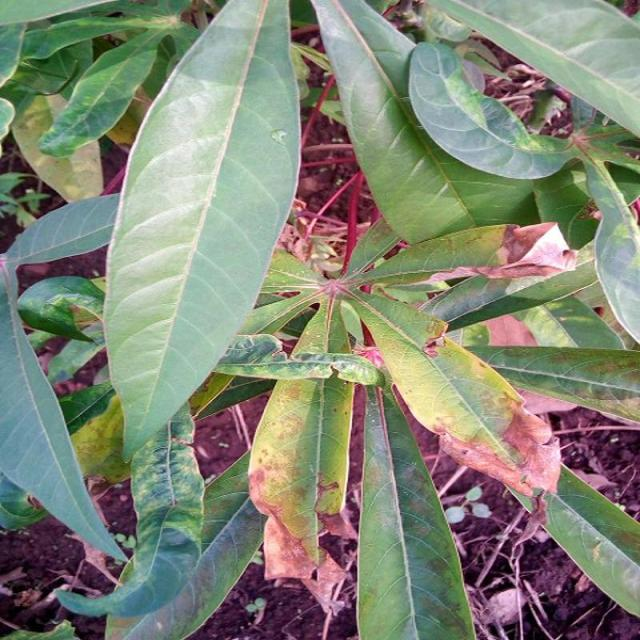cassava leaf: (1, 0, 638, 638), (101, 0, 302, 462)
